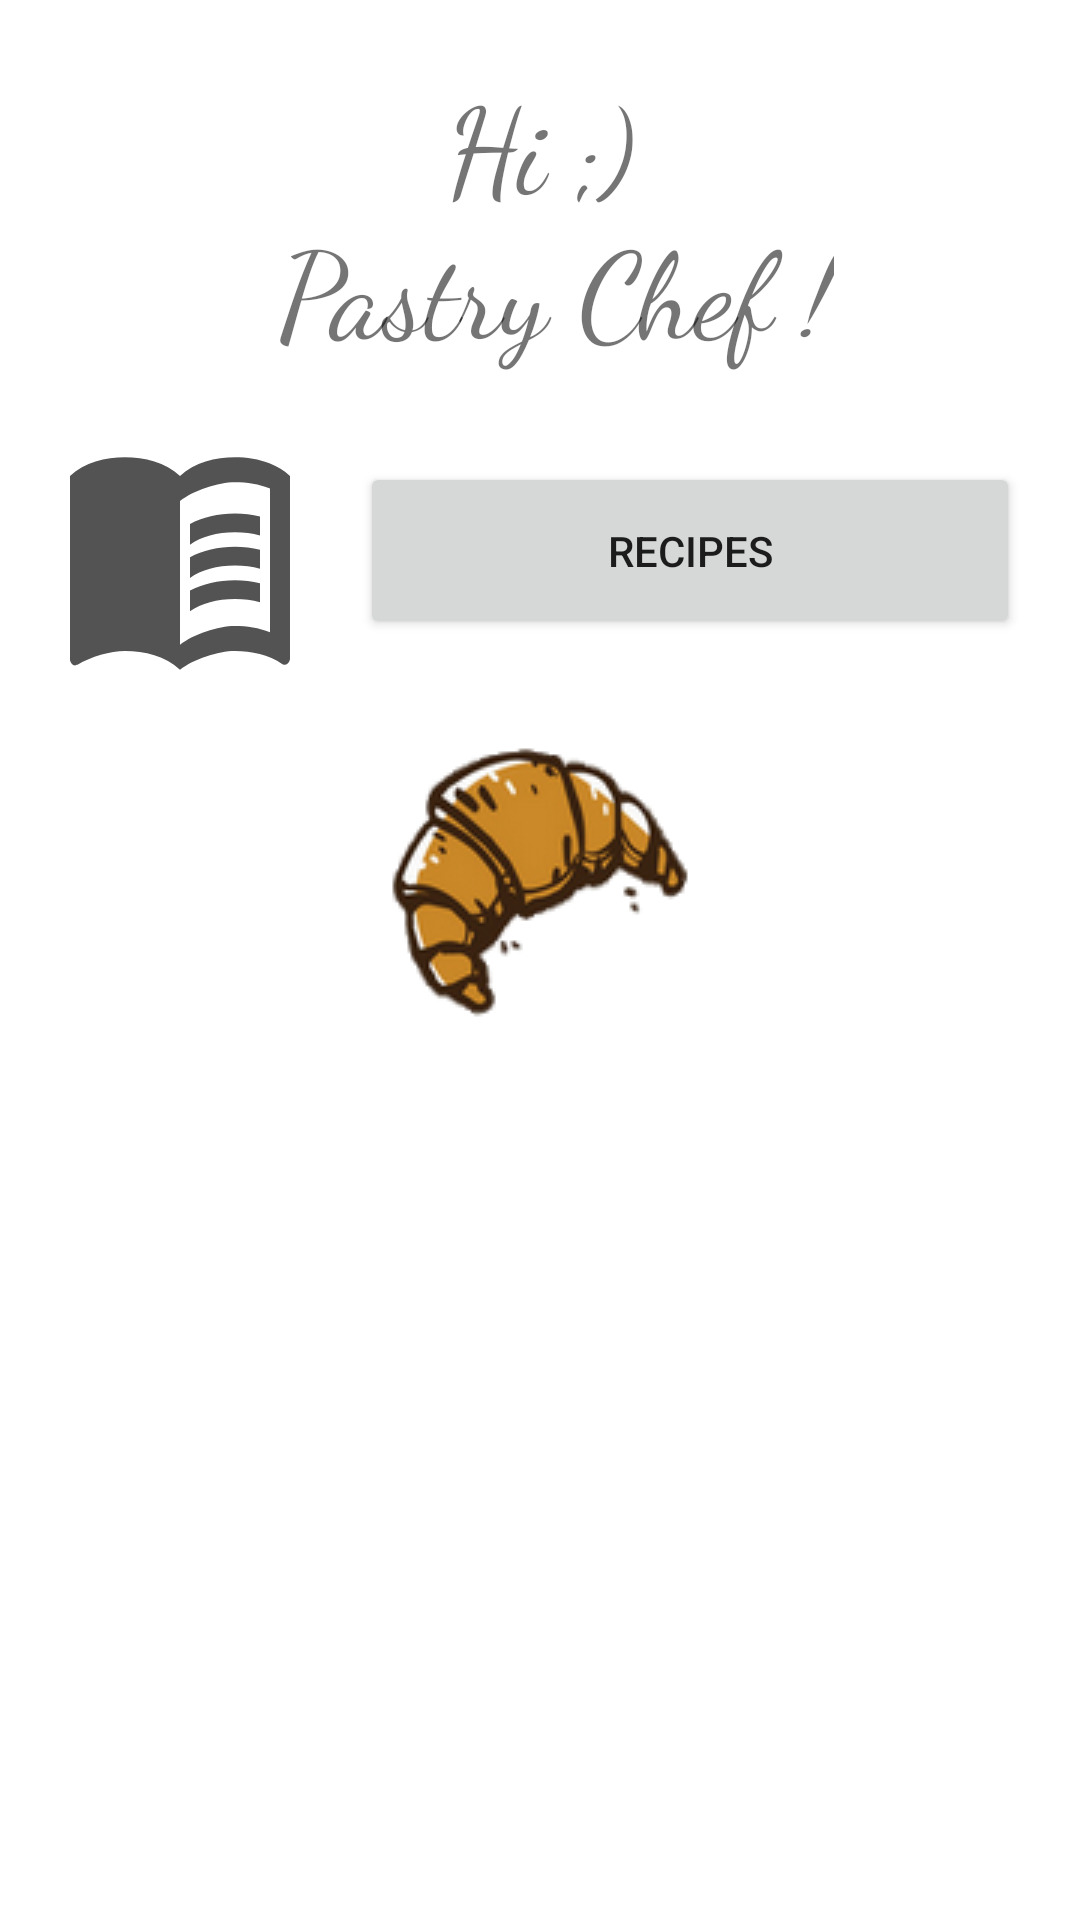

Icon bounding boxes for this 1080px x 1920px phone screenshot, format (x1, y1, x2, y2):
book: (70, 457, 290, 670)
croissant: (392, 748, 688, 1016)
